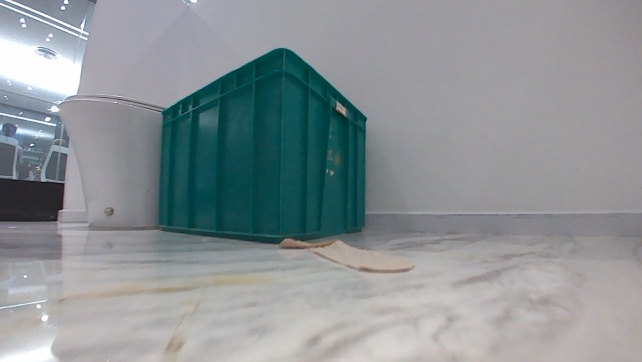socks: (276, 234, 415, 274)
toilet: (54, 91, 168, 230)
